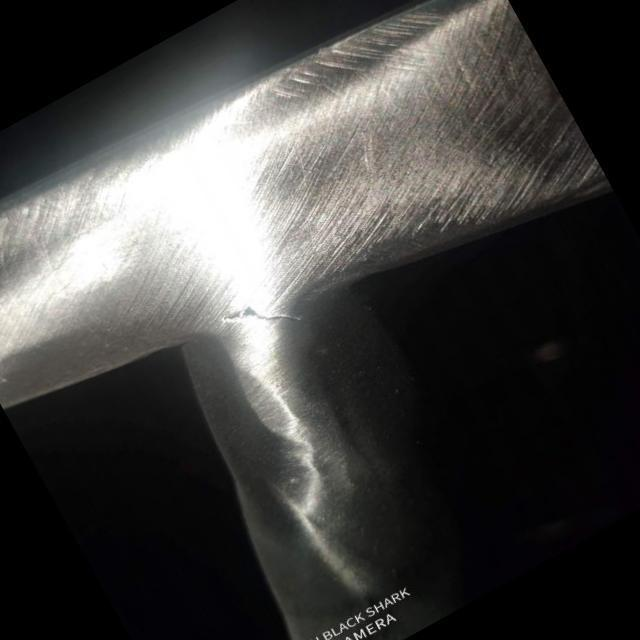defect: (216, 303, 304, 326)
